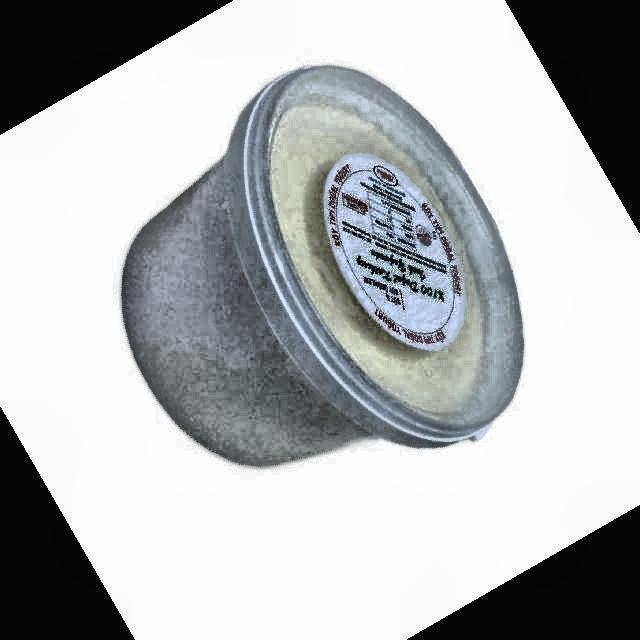plastic: (122, 68, 522, 467)
